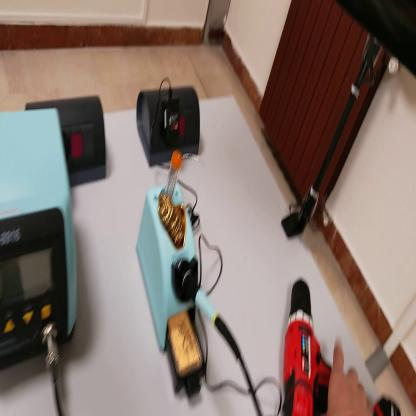electric screwdriver: (284, 272, 403, 416)
hand: (325, 337, 370, 414)
socket: (25, 96, 109, 187), (135, 83, 207, 172)
welder base: (142, 147, 210, 405)
welder probe tip: (180, 271, 244, 361)
welder station: (2, 99, 77, 375)
